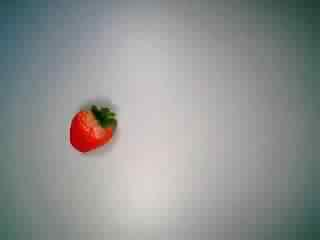strawberry: (59, 91, 127, 155)
